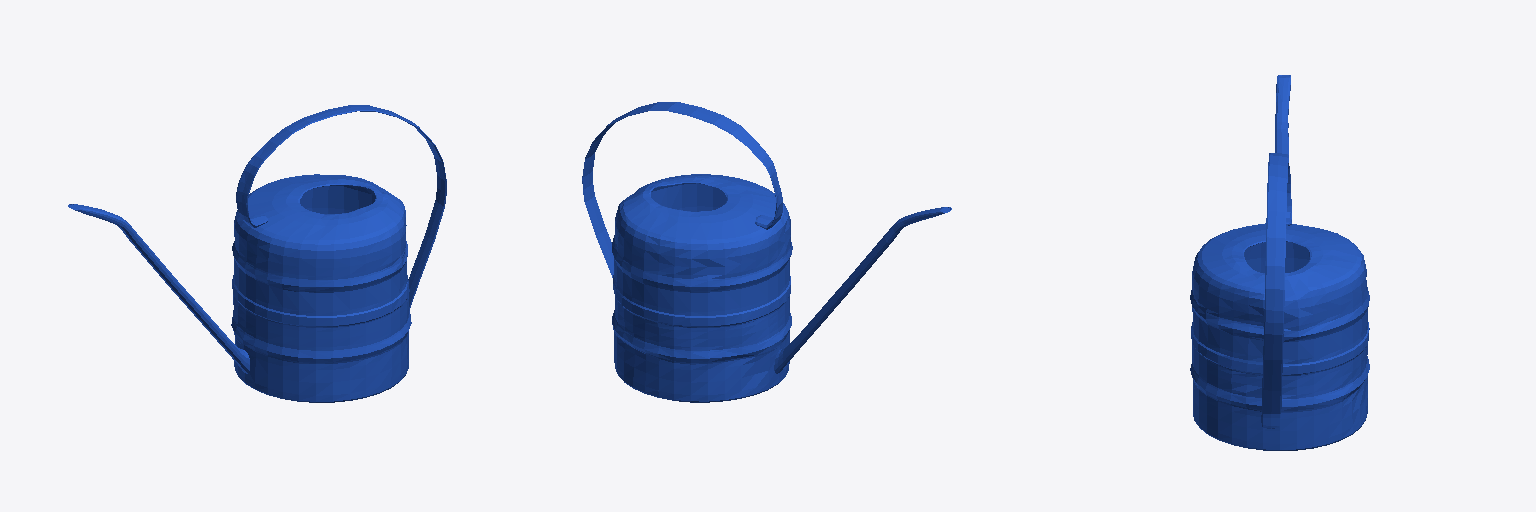
The model's file is watering-can.obj.
3 views of the same model, side by side, from view 1: azimuth 30°, elevation 25°; view 2: azimuth 150°, elevation 25°; view 3: azimuth 270°, elevation 25° (orthographic).
Visible parts, largest first — view 1: watering-can; view 2: watering-can; view 3: watering-can.
Boxes of the visible parts, box(x1,y1,x2,y2) form: watering-can: box(68, 105, 446, 402); watering-can: box(582, 102, 951, 402); watering-can: box(1190, 75, 1369, 450).
Size of the model in its own units: 0.7769 by 0.513 by 0.3289.